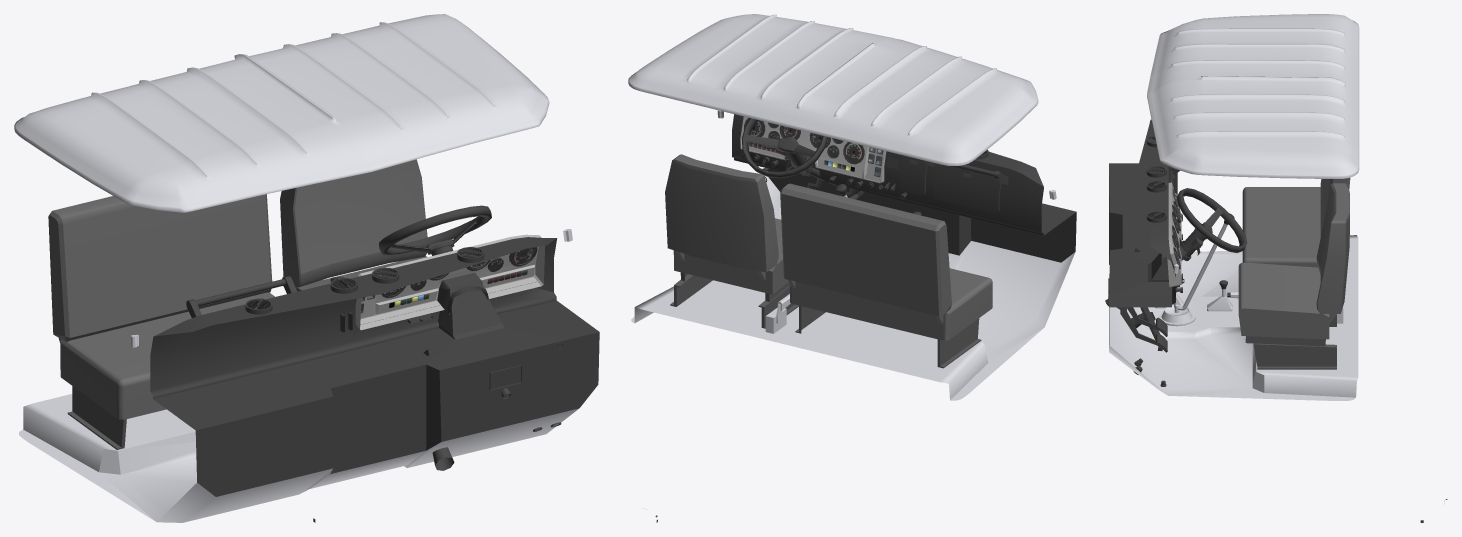
The model's file is interior.fbx.
3 views of the same model, side by side, from view 1: azimuth 30°, elevation 25°; view 2: azimuth 150°, elevation 25°; view 3: azimuth 270°, elevation 25° (orthographic). The views are drawn at different scales.
Visible parts, largest first — view 1: pPlane33, pPlane2, polySurface5319, pPlane16, polySurface5230, polySurface5215, polySurface5327, polySurface5334; view 2: polySurface5319, pPlane2, pPlane16, pPlane33, polySurface5327, polySurface5230, polySurface5215, polySurface5239, polySurface5216, polySurface5334; view 3: pPlane2, polySurface5319, pPlane16, pPlane33, polySurface5327, polySurface5215, polySurface5216, polySurface5230.
Boxes of the visible parts, x1,y1,x2,y2 form: pPlane33: (150,237,599,496); pPlane2: (14,14,549,212); polySurface5319: (48,159,440,449); pPlane16: (19,394,578,522); polySurface5230: (355,234,545,330); polySurface5215: (379,205,491,255); polySurface5327: (186,276,562,470); polySurface5334: (361,247,536,313); polySurface5319: (665,154,992,368); pPlane2: (628,14,1038,165); pPlane16: (631,177,1075,400); pPlane33: (732,114,1076,262); polySurface5327: (741,154,1008,333); polySurface5230: (740,116,886,183); polySurface5215: (742,118,827,178); polySurface5239: (745,118,863,162); polySurface5216: (761,145,855,195); polySurface5334: (748,142,883,177); pPlane2: (1147,14,1359,178); polySurface5319: (1238,177,1350,369); pPlane16: (1109,235,1358,400); pPlane33: (1109,119,1181,344); polySurface5327: (1108,167,1343,386); polySurface5215: (1176,188,1247,252); polySurface5216: (1105,228,1206,352); polySurface5230: (1167,182,1181,287).
Bounding box in the file's own units: 13491 × 15847 × 12321.
